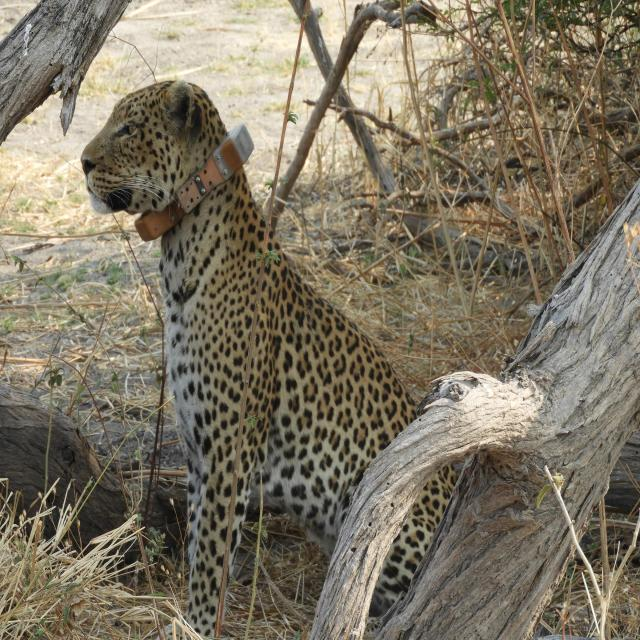Leopard: (75, 82, 458, 640)
